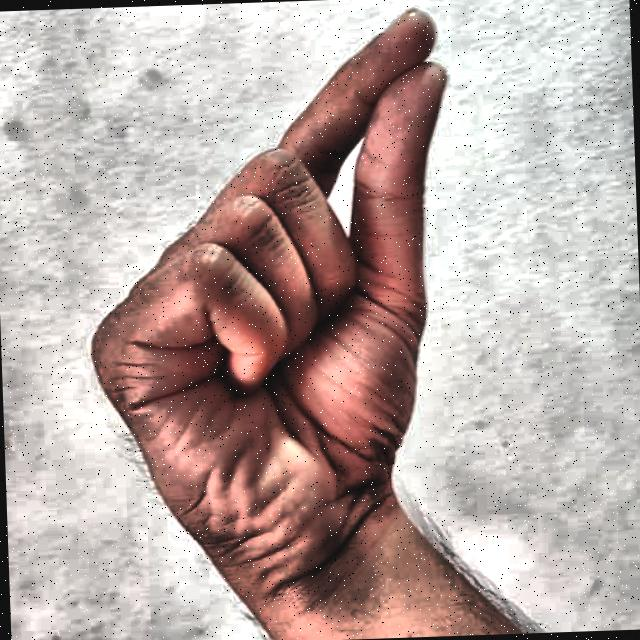Anusshar: (51, 2, 496, 626)
